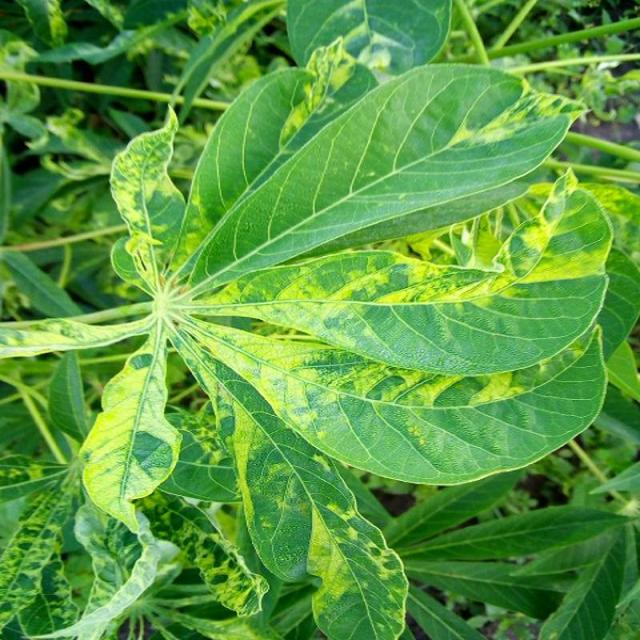cassava leaf: (2, 27, 623, 636)
